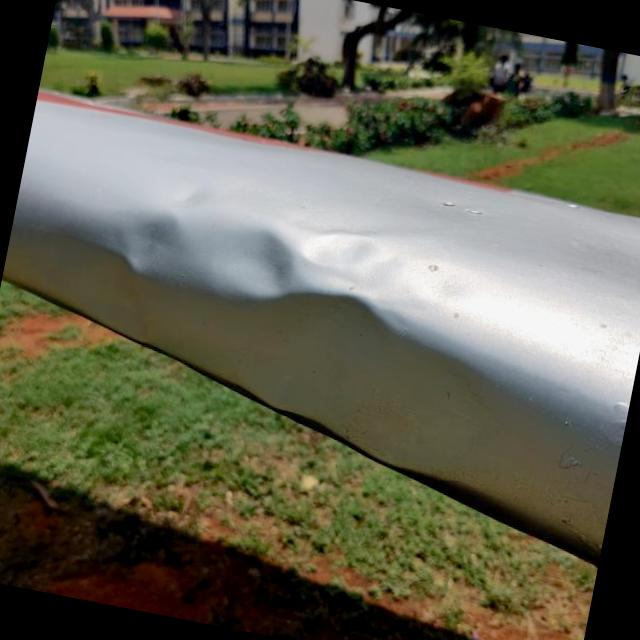dent: (153, 174, 469, 456), (85, 192, 202, 286)
